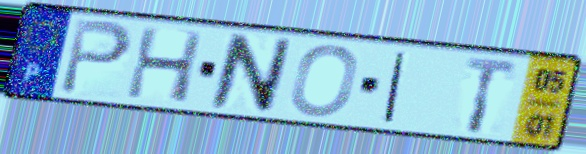H: (123, 24, 208, 105)
I: (379, 49, 410, 126)
N: (206, 31, 297, 116)
O: (286, 42, 362, 119)
P: (56, 16, 136, 98)
T: (461, 54, 521, 136)
